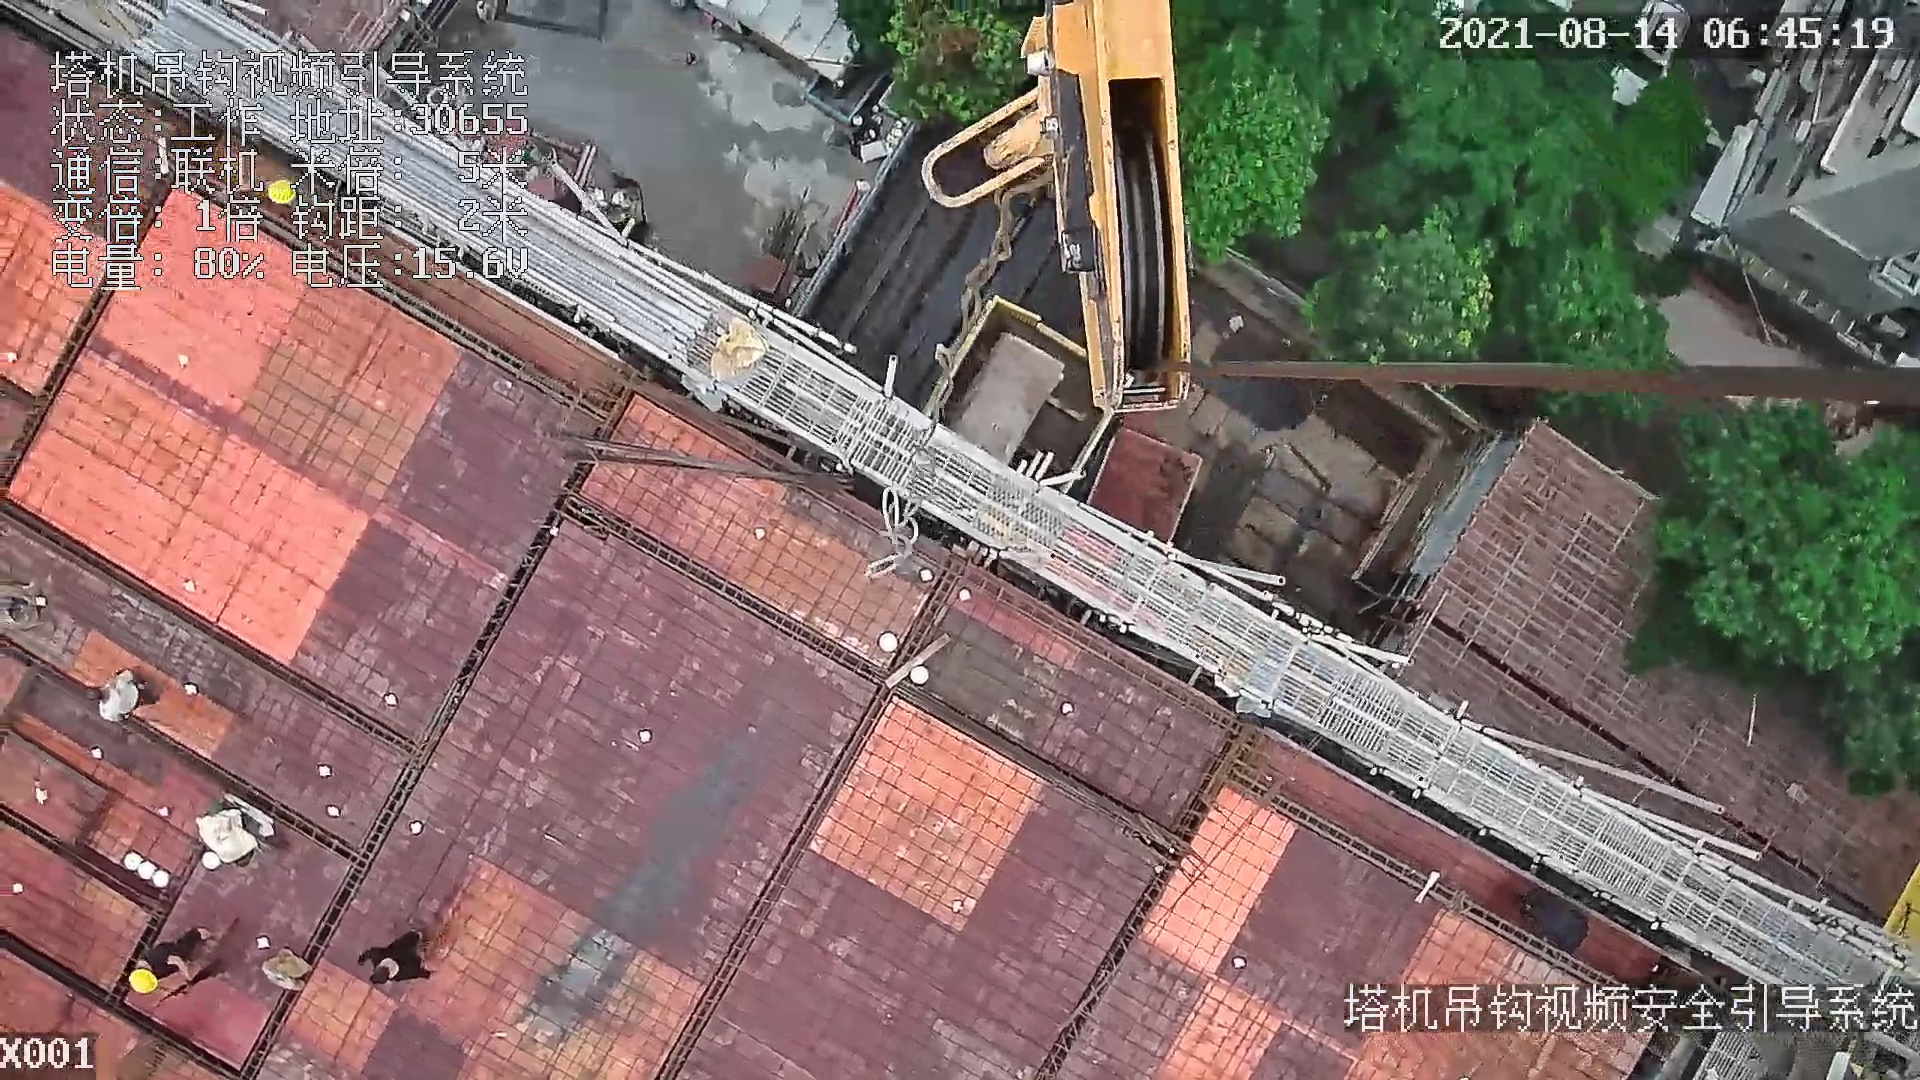helmet: (267, 178, 295, 205), (129, 969, 158, 991)
hook: (923, 1, 1196, 414)
hopper: (1086, 431, 1204, 546)
person: (124, 913, 209, 995), (1514, 880, 1586, 953), (78, 672, 159, 727), (358, 930, 431, 987)
